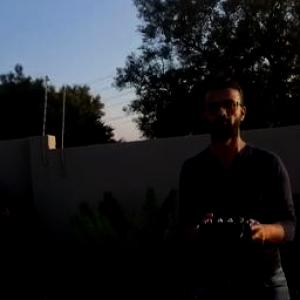follow: (172, 64, 300, 299)
